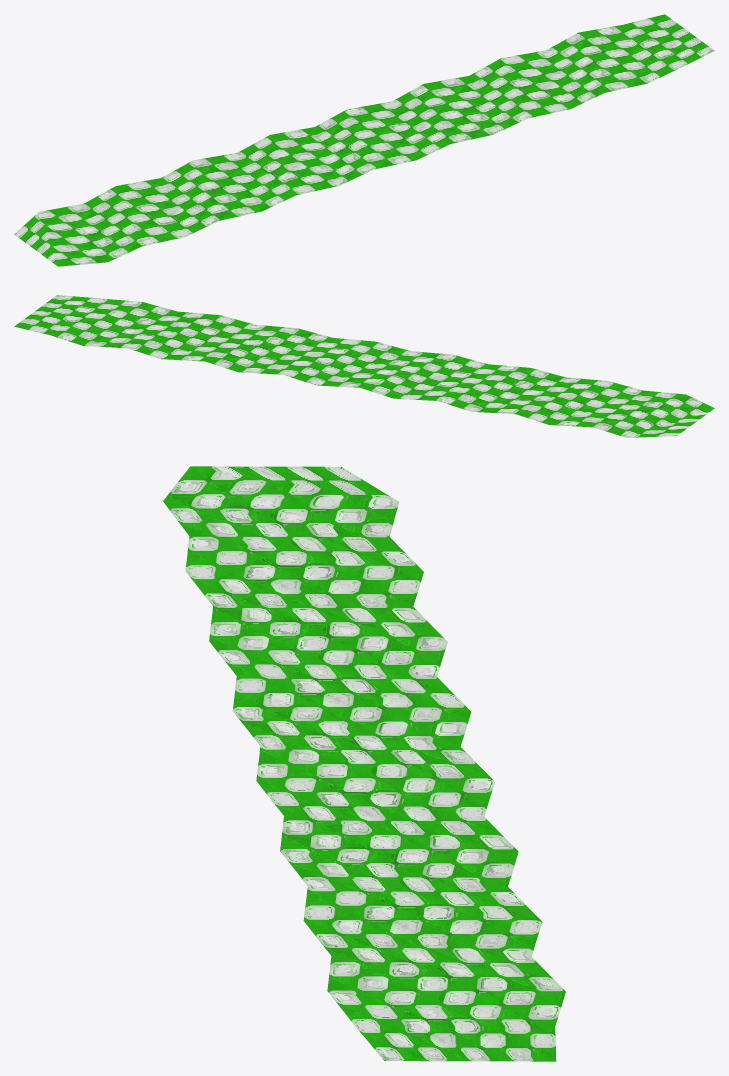
The model's file is checkpointfinishline.FBX.
3 renders of one model, top to bottom at view 1: azimuth 30°, elevation 25°; view 2: azimuth 150°, elevation 25°; view 3: azimuth 270°, elevation 25°, orthographic. The views are drawn at different scales.
Visible parts, largest first — view 1: Object021; view 2: Object021; view 3: Object021.
Part boxes in pixels (box(x1,y1,x2,y2)): Object021: box(14, 14, 714, 266); Object021: box(14, 295, 714, 437); Object021: box(163, 466, 565, 1061).
Bounding box in the file's own units: 375 × 0.1676 × 107.
